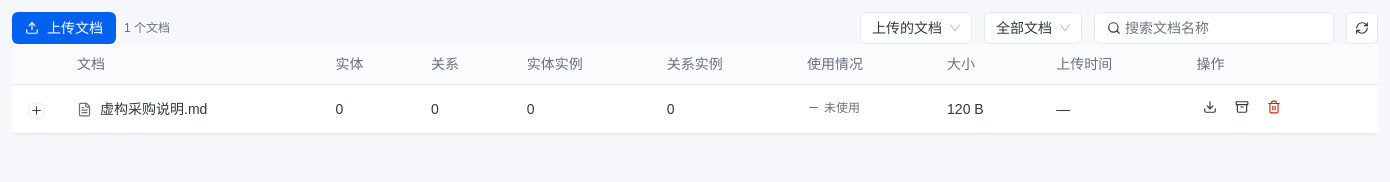
it: document materials › lists uploaded documents by default and table receipts on demand
This screenshot has width=1390, height=182.
expect the text "虚构采购说明.md" is shown: met, box top-left (100, 99), bottom-right (207, 120)
expect the text "表结构收据 · 虚构采购库 · 2026-10-21" is not shown: met
Press the mouse on the dropdown named "文档来源" at (916, 28), box top-left (872, 13), bottom-right (960, 43)
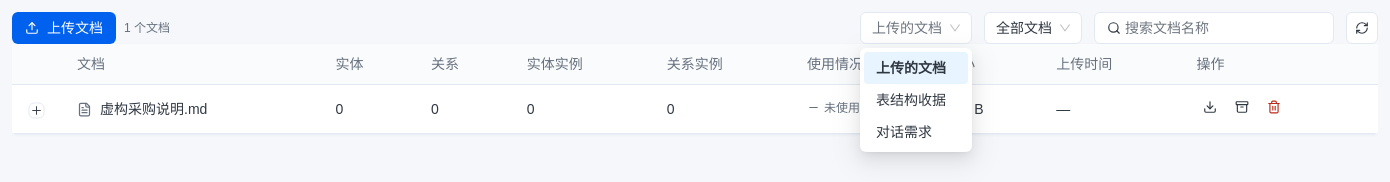
Click the text "表结构收据" at (916, 100), box top-left (876, 90), bottom-right (956, 110)
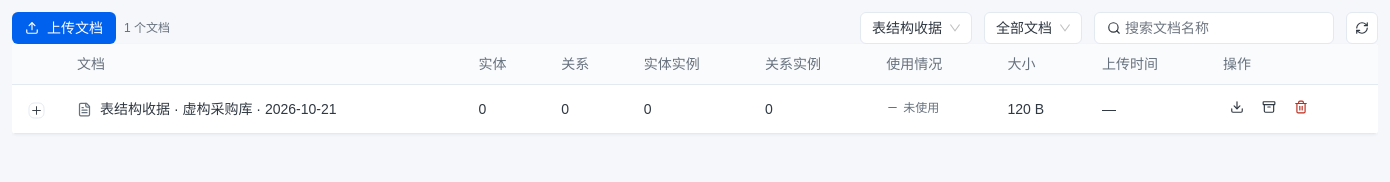
expect the text "表结构收据 · 虚构采购库 · 2026-10-21" is shown: met, box top-left (100, 99), bottom-right (336, 120)
expect the text "虚构采购说明.md" is gone: met
